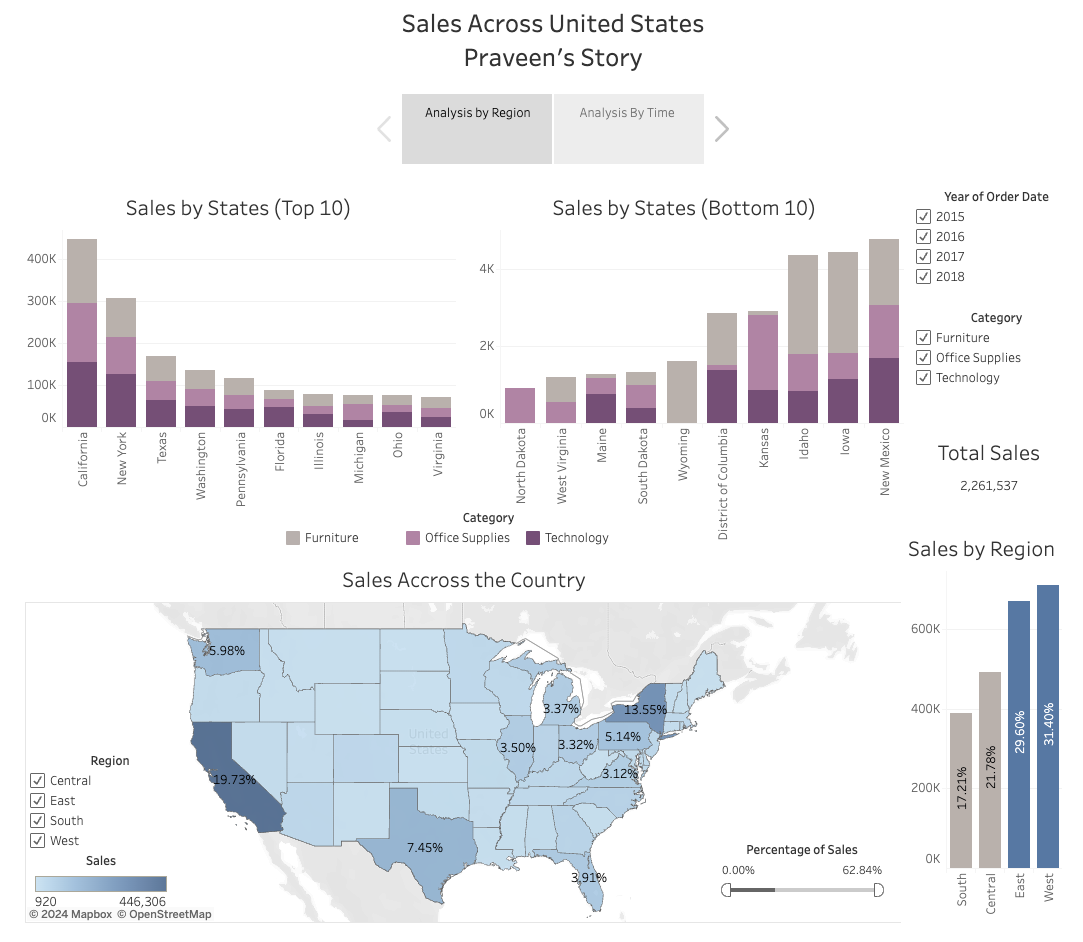

The page's visual inventory and layout, read from the dashboard file:
{"tool":"tableau","page":{"name":"Sales by Area","canvas":[1080,760],"ordinal":0},"visuals":[{"type":"worksheet","title":"Sheet 1","mark":"Automatic","rows":["Sales"],"cols":["State"],"box":[8,8,439,372]},{"type":"worksheet","title":"Sheet 2","mark":"Automatic","rows":["Sales"],"cols":["State"],"box":[447,8,448,372]},{"type":"filter","title":"Sheet 1","param":"[federated.0z9886t1x64m9h15o96lu192kbgs].[yr:Order Date:ok]","box":[895,8,177,121]},{"type":"filter","title":"Sheet 1","param":"[federated.0z9886t1x64m9h15o96lu192kbgs].[none:Category:nk]","box":[895,129,177,124]},{"type":"worksheet","title":"Sheet 8","mark":"Automatic","box":[895,253,177,71]},{"type":"legend","title":"Sheet 1","param":"[federated.0z9886t1x64m9h15o96lu192kbgs].[none:Category:nk]","box":[270,334,410.6,78]},{"type":"worksheet","title":"Sheet 3","mark":"Automatic","rows":["Sales"],"cols":["Region"],"box":[887.6,353,185.6,395]},{"type":"worksheet","title":"Sheet 15","mark":"Multipolygon","box":[8,380,887,372]},{"type":"filter","title":"Sheet 15","param":"[federated.0z9886t1x64m9h15o96lu192kbgs].[none:Region:nk]","box":[13,576,168,127]},{"type":"filter","title":"Sheet 15","param":"[federated.0z9886t1x64m9h15o96lu192kbgs].[pcto:sum:Sales:qk:2]","box":[705,665,168,69]},{"type":"legend","title":"Sheet 15","param":"[federated.0z9886t1x64m9h15o96lu192kbgs].[sum:Sales:qk]","box":[18,677,140,76]}]}

Visuals, with their boxes on the page's 1080x760 design canvas (x1, y1, x2, y2). These are canvas units, not pixel positions in the 1083x942 screenshot, which may show the page scaled, cropped or inside an application window:
"Sheet 1" worksheet: left=8, top=8, right=447, bottom=380
"Sheet 2" worksheet: left=447, top=8, right=895, bottom=380
"Sheet 1" filter: left=895, top=8, right=1072, bottom=129
"Sheet 1" filter: left=895, top=129, right=1072, bottom=253
"Sheet 8" worksheet: left=895, top=253, right=1072, bottom=324
"Sheet 1" legend: left=270, top=334, right=681, bottom=412
"Sheet 3" worksheet: left=888, top=353, right=1073, bottom=748
"Sheet 15" worksheet (Multipolygon marks): left=8, top=380, right=895, bottom=752
"Sheet 15" filter: left=13, top=576, right=181, bottom=703
"Sheet 15" filter: left=705, top=665, right=873, bottom=734
"Sheet 15" legend: left=18, top=677, right=158, bottom=753
